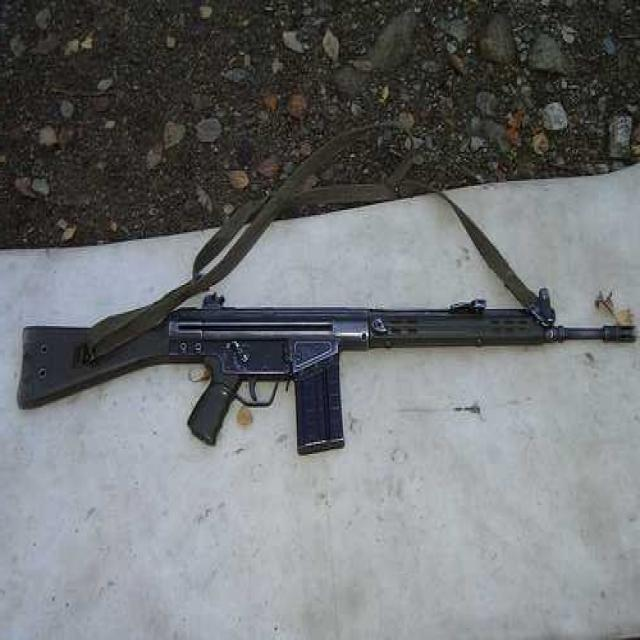heavyweapon: (9, 230, 640, 478)
